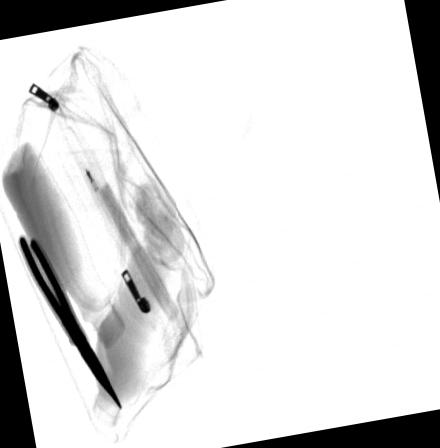Pliers: (16, 233, 121, 407)
